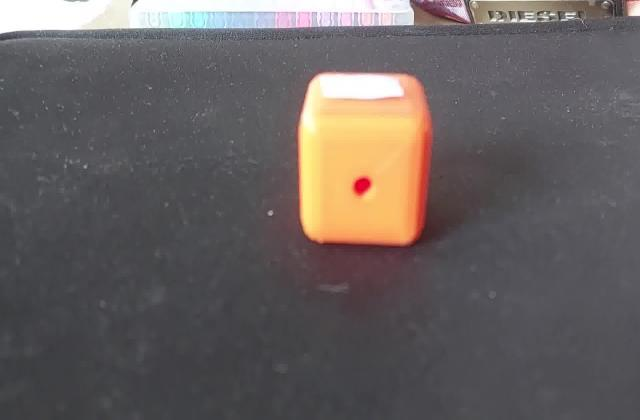cube: (291, 66, 435, 250)
white: (314, 71, 409, 107)
